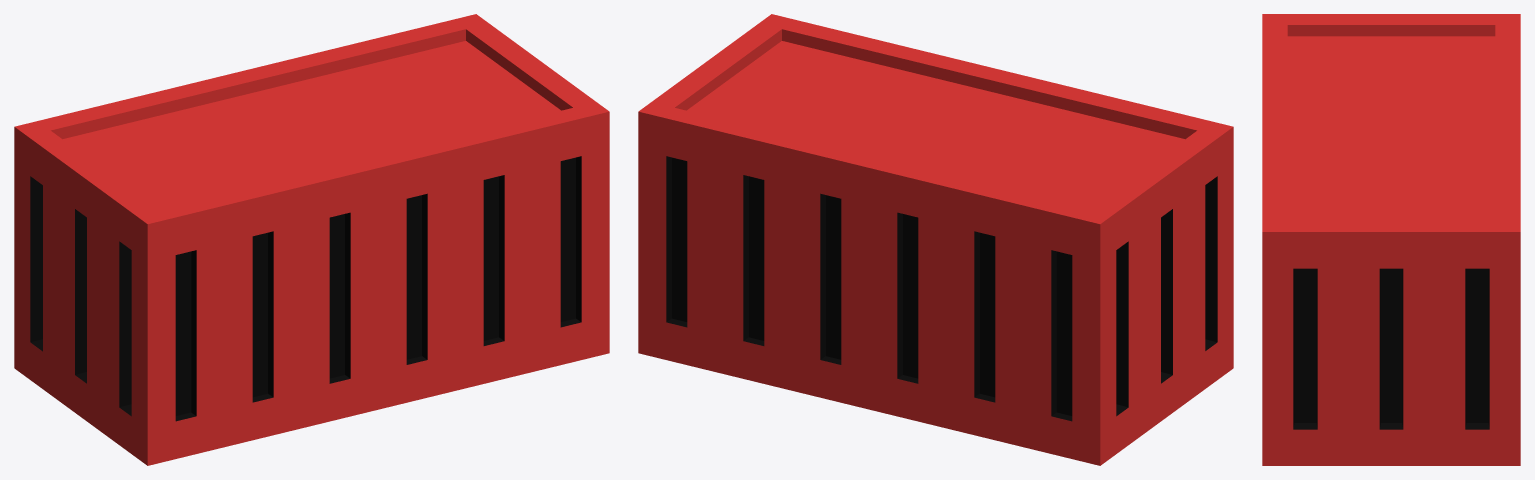
The model's file is cont_2.fbx.
3 views of the same model, side by side, from view 1: azimuth 30°, elevation 25°; view 2: azimuth 150°, elevation 25°; view 3: azimuth 270°, elevation 25° (orthographic). The views are drawn at different scales.
Parts seen in each view (by area): view 1: cont_2; view 2: cont_2; view 3: cont_2.
Boxes of the visible parts, x1,y1,x2,y2 form: cont_2: (14,14,609,465); cont_2: (638,14,1233,465); cont_2: (1262,14,1520,465).
Bounding box in the file's own units: 400 × 200 × 200.
